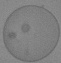small: (22, 24, 32, 33), (6, 32, 18, 39)
